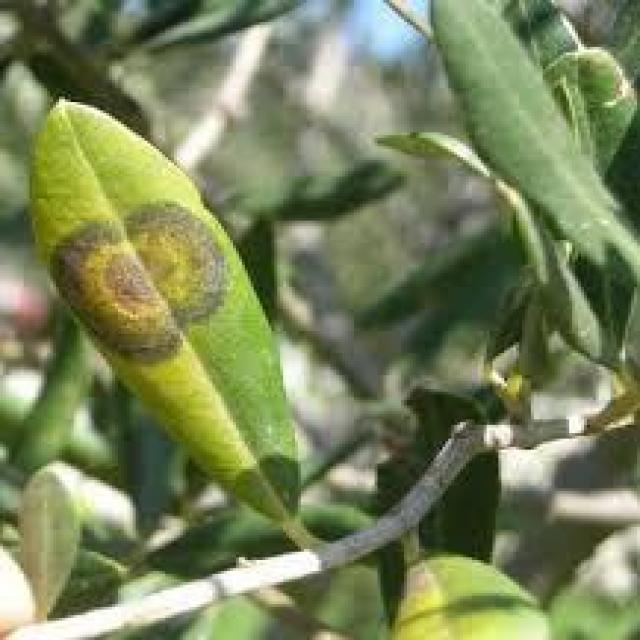Peacock Eye: (32, 99, 321, 546)
